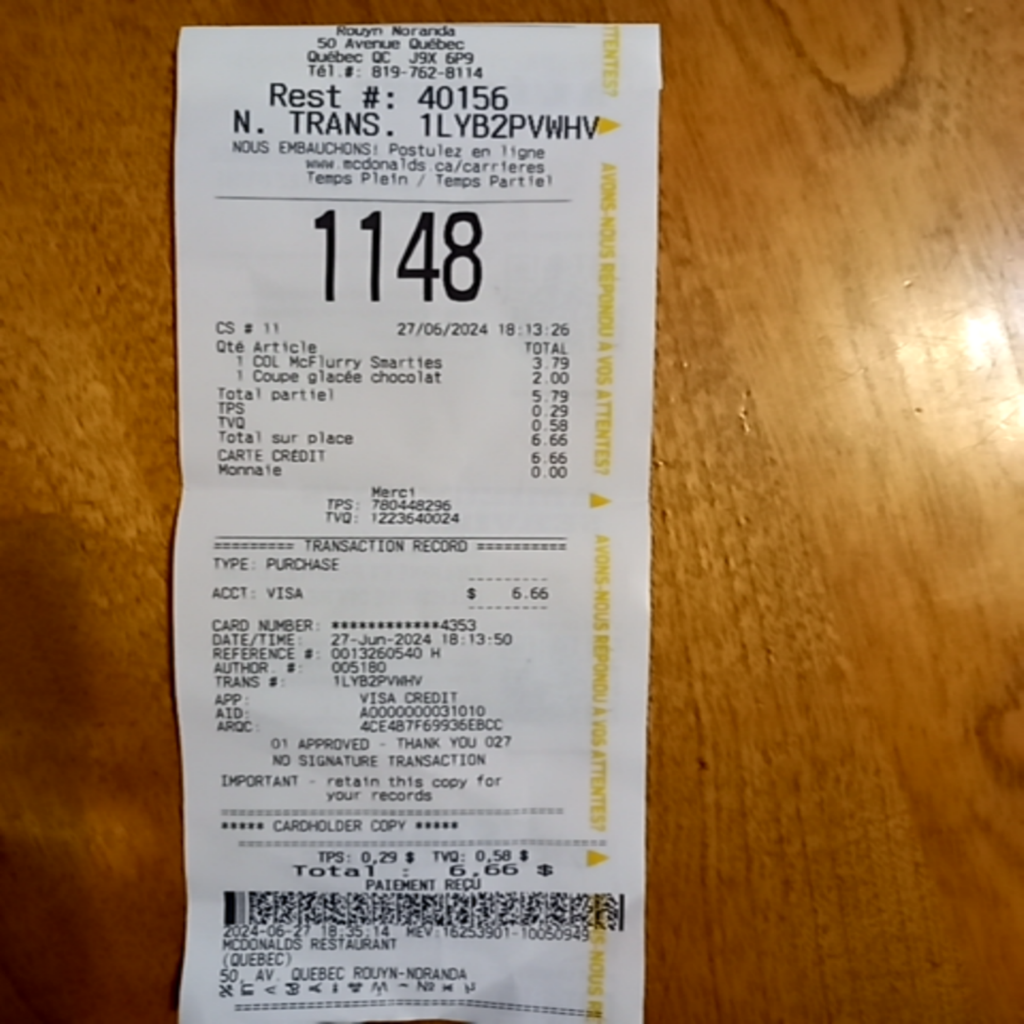recipt: (166, 21, 657, 1024)
